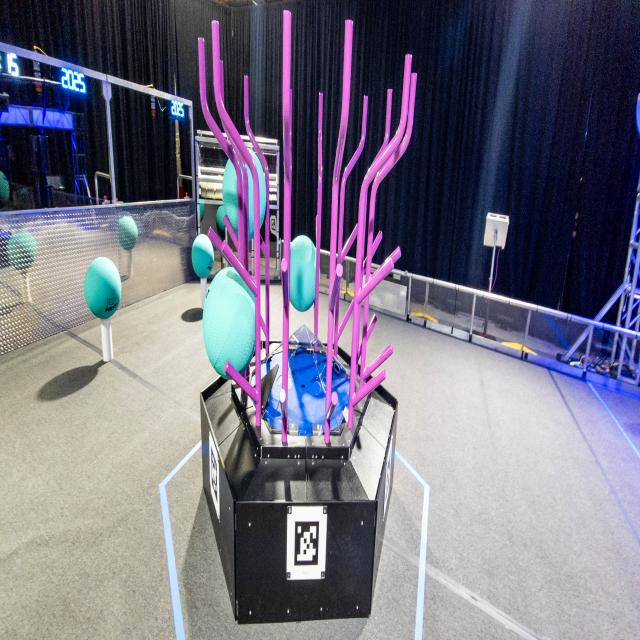Algae: (203, 268, 256, 378), (224, 148, 266, 242), (289, 236, 320, 311), (85, 256, 122, 318), (192, 234, 214, 277)
Coral: (102, 314, 114, 364), (201, 278, 207, 311)
